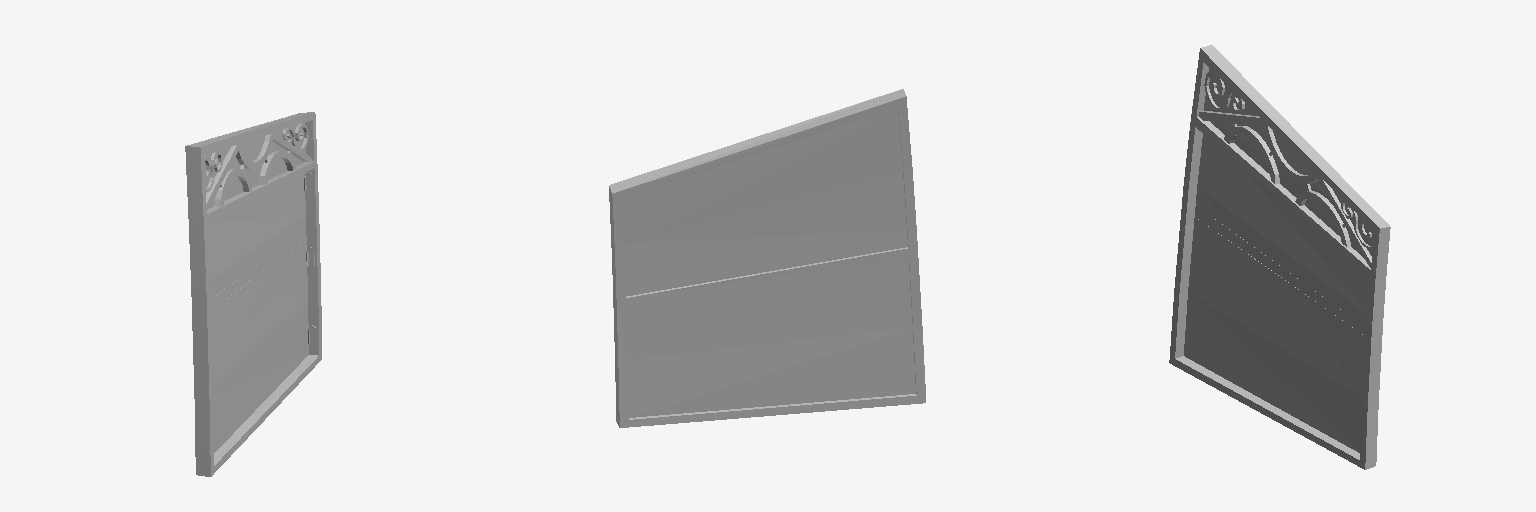
Rendered from ma_window_big_c_all.obj.
The picture shows the model from 3 angles: view 1: azimuth 30°, elevation 25°; view 2: azimuth 150°, elevation 25°; view 3: azimuth 270°, elevation 25°; orthographic projection.
Parts seen in each view (by area): view 1: ma_window_big_c_all; view 2: ma_window_big_c_all; view 3: ma_window_big_c_all.
Boxes of the visible parts, x1=… form: ma_window_big_c_all: x1=185, y1=112, x2=321, y2=476; ma_window_big_c_all: x1=609, y1=89, x2=925, y2=427; ma_window_big_c_all: x1=1169, y1=45, x2=1390, y2=469.
Size of the model in its own units: 649 by 916 by 569.